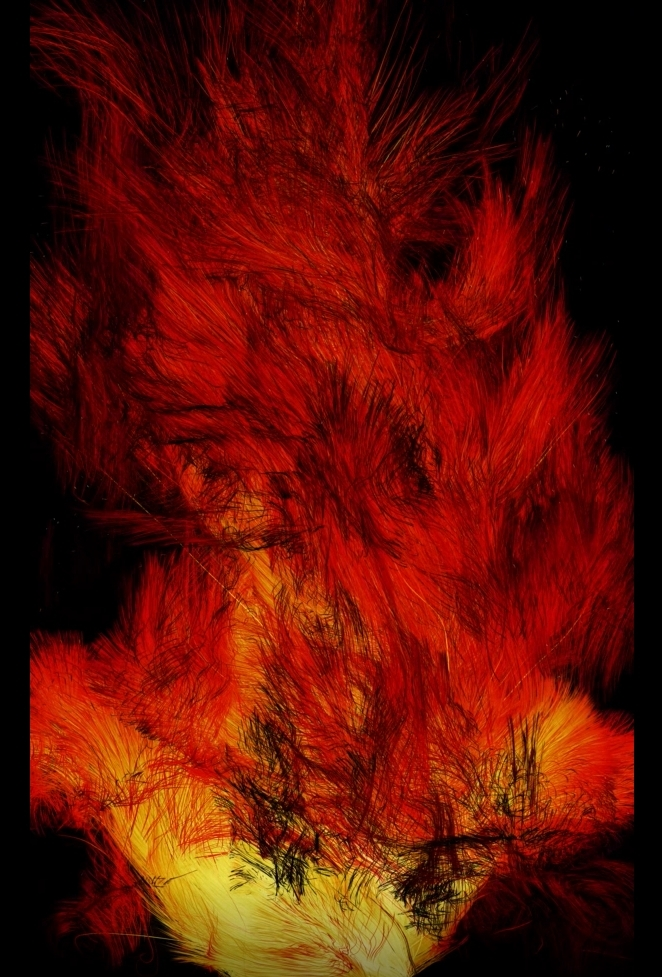flame: (25, 206, 634, 971)
smoke: (26, 12, 621, 198), (240, 718, 566, 896)
